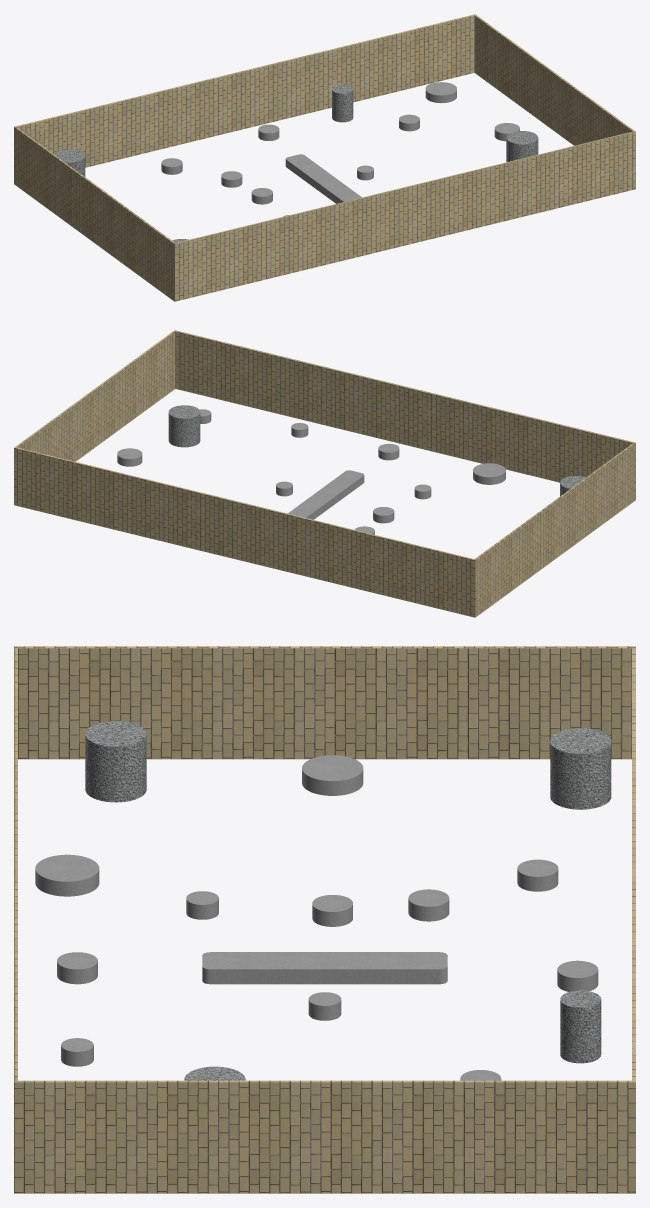
File: envE.dae
The picture shows the model from 3 angles, top to bottom: view 1: azimuth 30°, elevation 25°; view 2: azimuth 150°, elevation 25°; view 3: azimuth 270°, elevation 25°; orthographic projection. The views are drawn at different scales.
Parts seen in each view (by area): view 1: stitch_result_stitchFBXASC032all_ncl1_4, stitch_result_stitchFBXASC032all_ncl1_18, stitch_result_stitchFBXASC032all_ncl1_9, stitch_result_stitchFBXASC032all_ncl1_11, stitch_result_stitchFBXASC032all_ncl1_15, stitch_result_stitchFBXASC032all_ncl1_3; view 2: stitch_result_stitchFBXASC032all_ncl1_4, stitch_result_stitchFBXASC032all_ncl1_18, stitch_result_stitchFBXASC032all_ncl1_9, stitch_result_stitchFBXASC032all_ncl1_1, stitch_result_stitchFBXASC032all_ncl1_14; view 3: stitch_result_stitchFBXASC032all_ncl1_4, stitch_result_stitchFBXASC032all_ncl1_18, stitch_result_stitchFBXASC032all_ncl1_3, stitch_result_stitchFBXASC032all_ncl1_17, stitch_result_stitchFBXASC032all_ncl1_11, stitch_result_stitchFBXASC032all_ncl1_1, stitch_result_stitchFBXASC032all, stitch_result_stitchFBXASC032all_ncl1_5, stitch_result_stitchFBXASC032all_ncl1_19, stitch_result_stitchFBXASC032all_ncl1_12, stitch_result_stitchFBXASC032all_ncl1_6, stitch_result_stitchFBXASC032all_ncl1_16 (+3 smaller).
Part boxes in pixels (x1,y1,x2,y2): stitch_result_stitchFBXASC032all_ncl1_4: [14, 14, 635, 301]; stitch_result_stitchFBXASC032all_ncl1_18: [285, 154, 361, 203]; stitch_result_stitchFBXASC032all_ncl1_9: [506, 131, 538, 162]; stitch_result_stitchFBXASC032all_ncl1_11: [332, 84, 353, 122]; stitch_result_stitchFBXASC032all_ncl1_15: [425, 82, 456, 103]; stitch_result_stitchFBXASC032all_ncl1_3: [54, 149, 85, 176]; stitch_result_stitchFBXASC032all_ncl1_4: [14, 330, 635, 617]; stitch_result_stitchFBXASC032all_ncl1_18: [288, 470, 364, 519]; stitch_result_stitchFBXASC032all_ncl1_9: [168, 405, 200, 447]; stitch_result_stitchFBXASC032all_ncl1_1: [473, 463, 505, 484]; stitch_result_stitchFBXASC032all_ncl1_14: [117, 448, 142, 466]; stitch_result_stitchFBXASC032all_ncl1_4: [14, 646, 635, 1193]; stitch_result_stitchFBXASC032all_ncl1_18: [202, 952, 447, 984]; stitch_result_stitchFBXASC032all_ncl1_3: [550, 728, 611, 809]; stitch_result_stitchFBXASC032all_ncl1_17: [85, 721, 146, 802]; stitch_result_stitchFBXASC032all_ncl1_11: [560, 990, 601, 1063]; stitch_result_stitchFBXASC032all_ncl1_1: [35, 854, 99, 896]; stitch_result_stitchFBXASC032all: [302, 755, 363, 795]; stitch_result_stitchFBXASC032all_ncl1_5: [517, 859, 558, 891]; stitch_result_stitchFBXASC032all_ncl1_19: [408, 889, 449, 921]; stitch_result_stitchFBXASC032all_ncl1_12: [57, 952, 97, 984]; stitch_result_stitchFBXASC032all_ncl1_6: [312, 895, 352, 926]; stitch_result_stitchFBXASC032all_ncl1_16: [557, 960, 598, 991].
Bounding box in the file's own units: 126 × 76 × 15.
3 materials, 3 textured.
